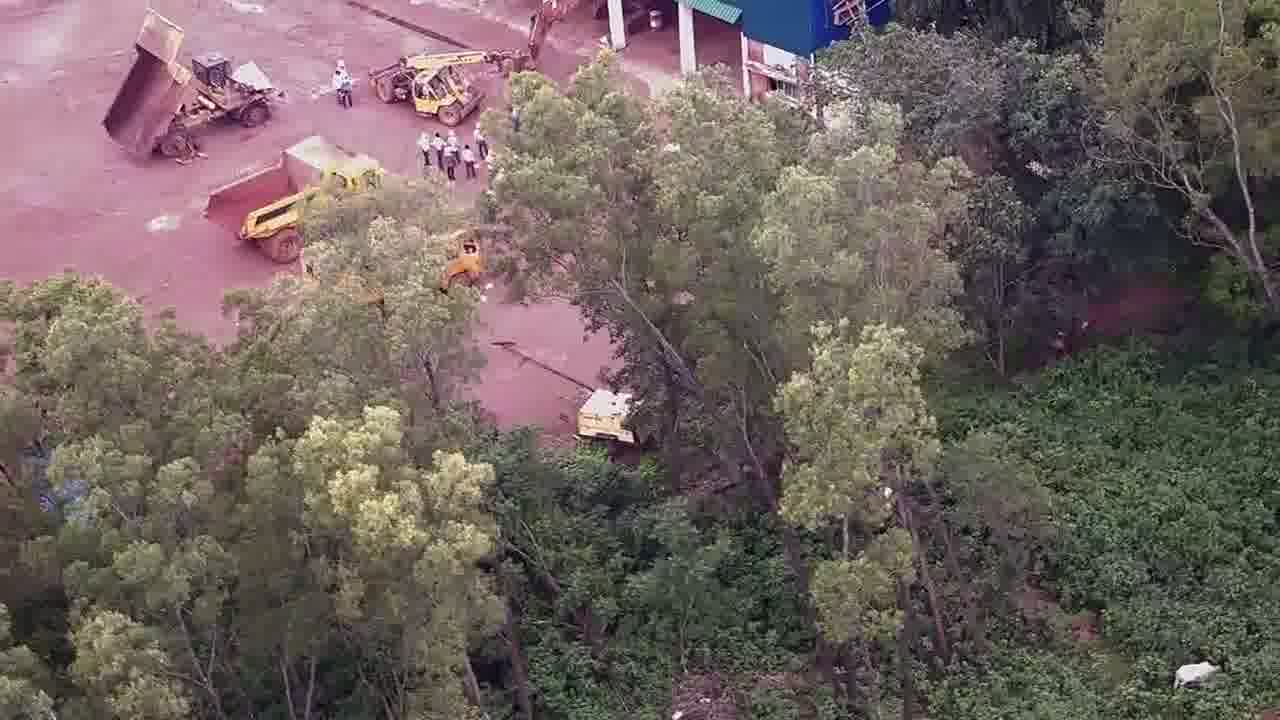HMV: (101, 13, 273, 152), (206, 134, 385, 262), (374, 43, 500, 123)
Person: (475, 122, 490, 162), (445, 140, 459, 180), (463, 143, 474, 181), (420, 133, 431, 167), (434, 132, 444, 169), (448, 130, 458, 165), (334, 69, 343, 106), (343, 76, 352, 107)
